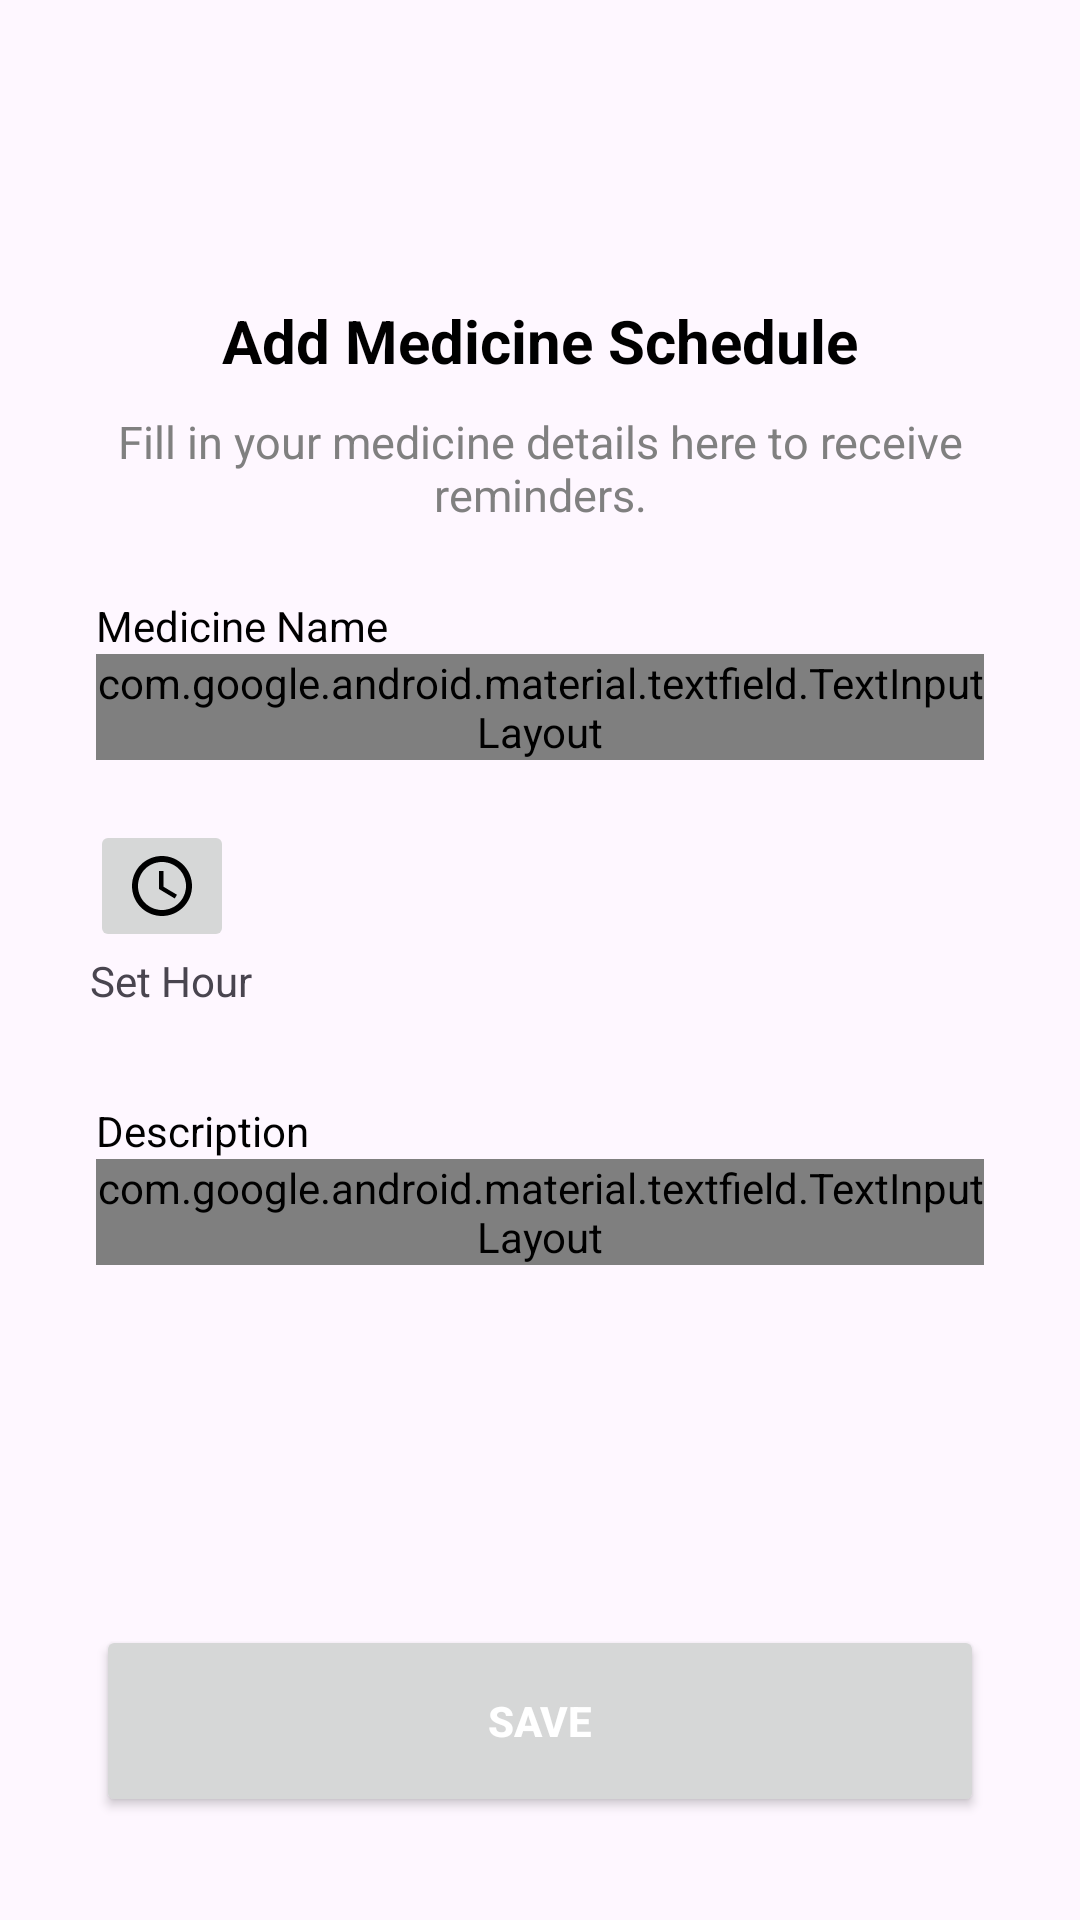

Locate icon controls on the screen. Image size 1080w x 1920h, boxes as {"left": x1, "top": y1, "right": x2, "bottom": y2}.
time: {"left": 102, "top": 838, "right": 222, "bottom": 934}
